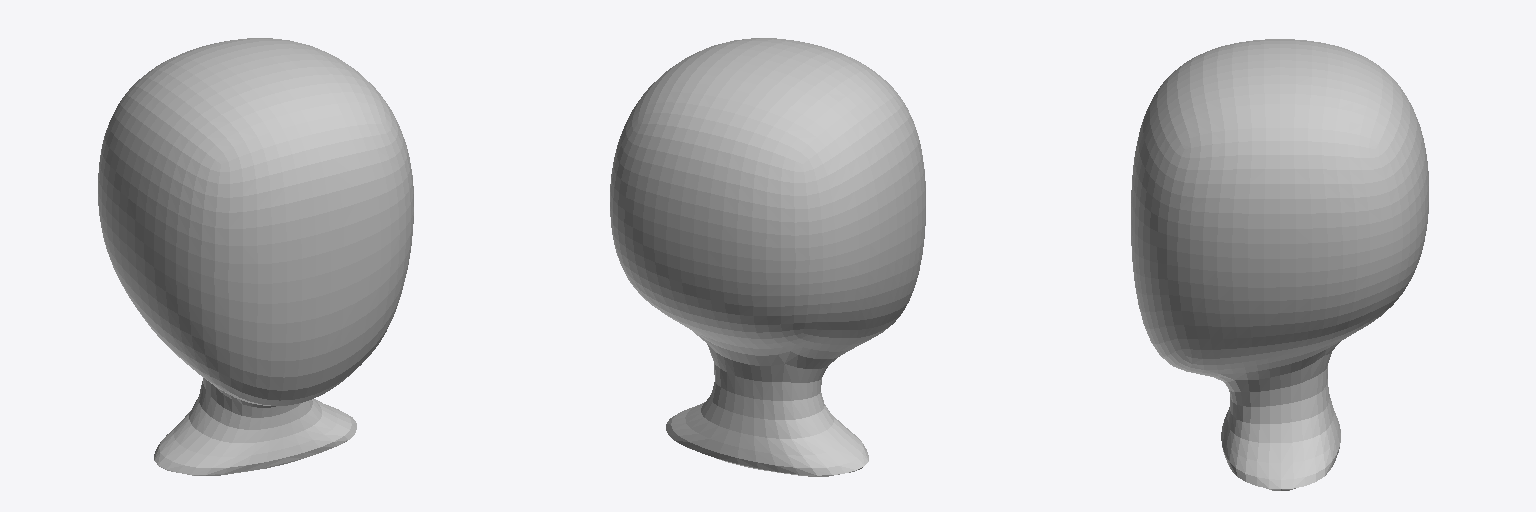
File: basehead2.obj
3 views of the same model, side by side, from view 1: azimuth 30°, elevation 25°; view 2: azimuth 150°, elevation 25°; view 3: azimuth 270°, elevation 25° (orthographic).
Visible parts, largest first — view 1: Cube; view 2: Cube; view 3: Cube.
Part boxes in pixels (x1,y1,x2,y2): Cube: (98,38,413,475); Cube: (610,38,925,476); Cube: (1131,39,1428,490).
Size of the model in its own units: 3.01 by 4.35 by 3.01.